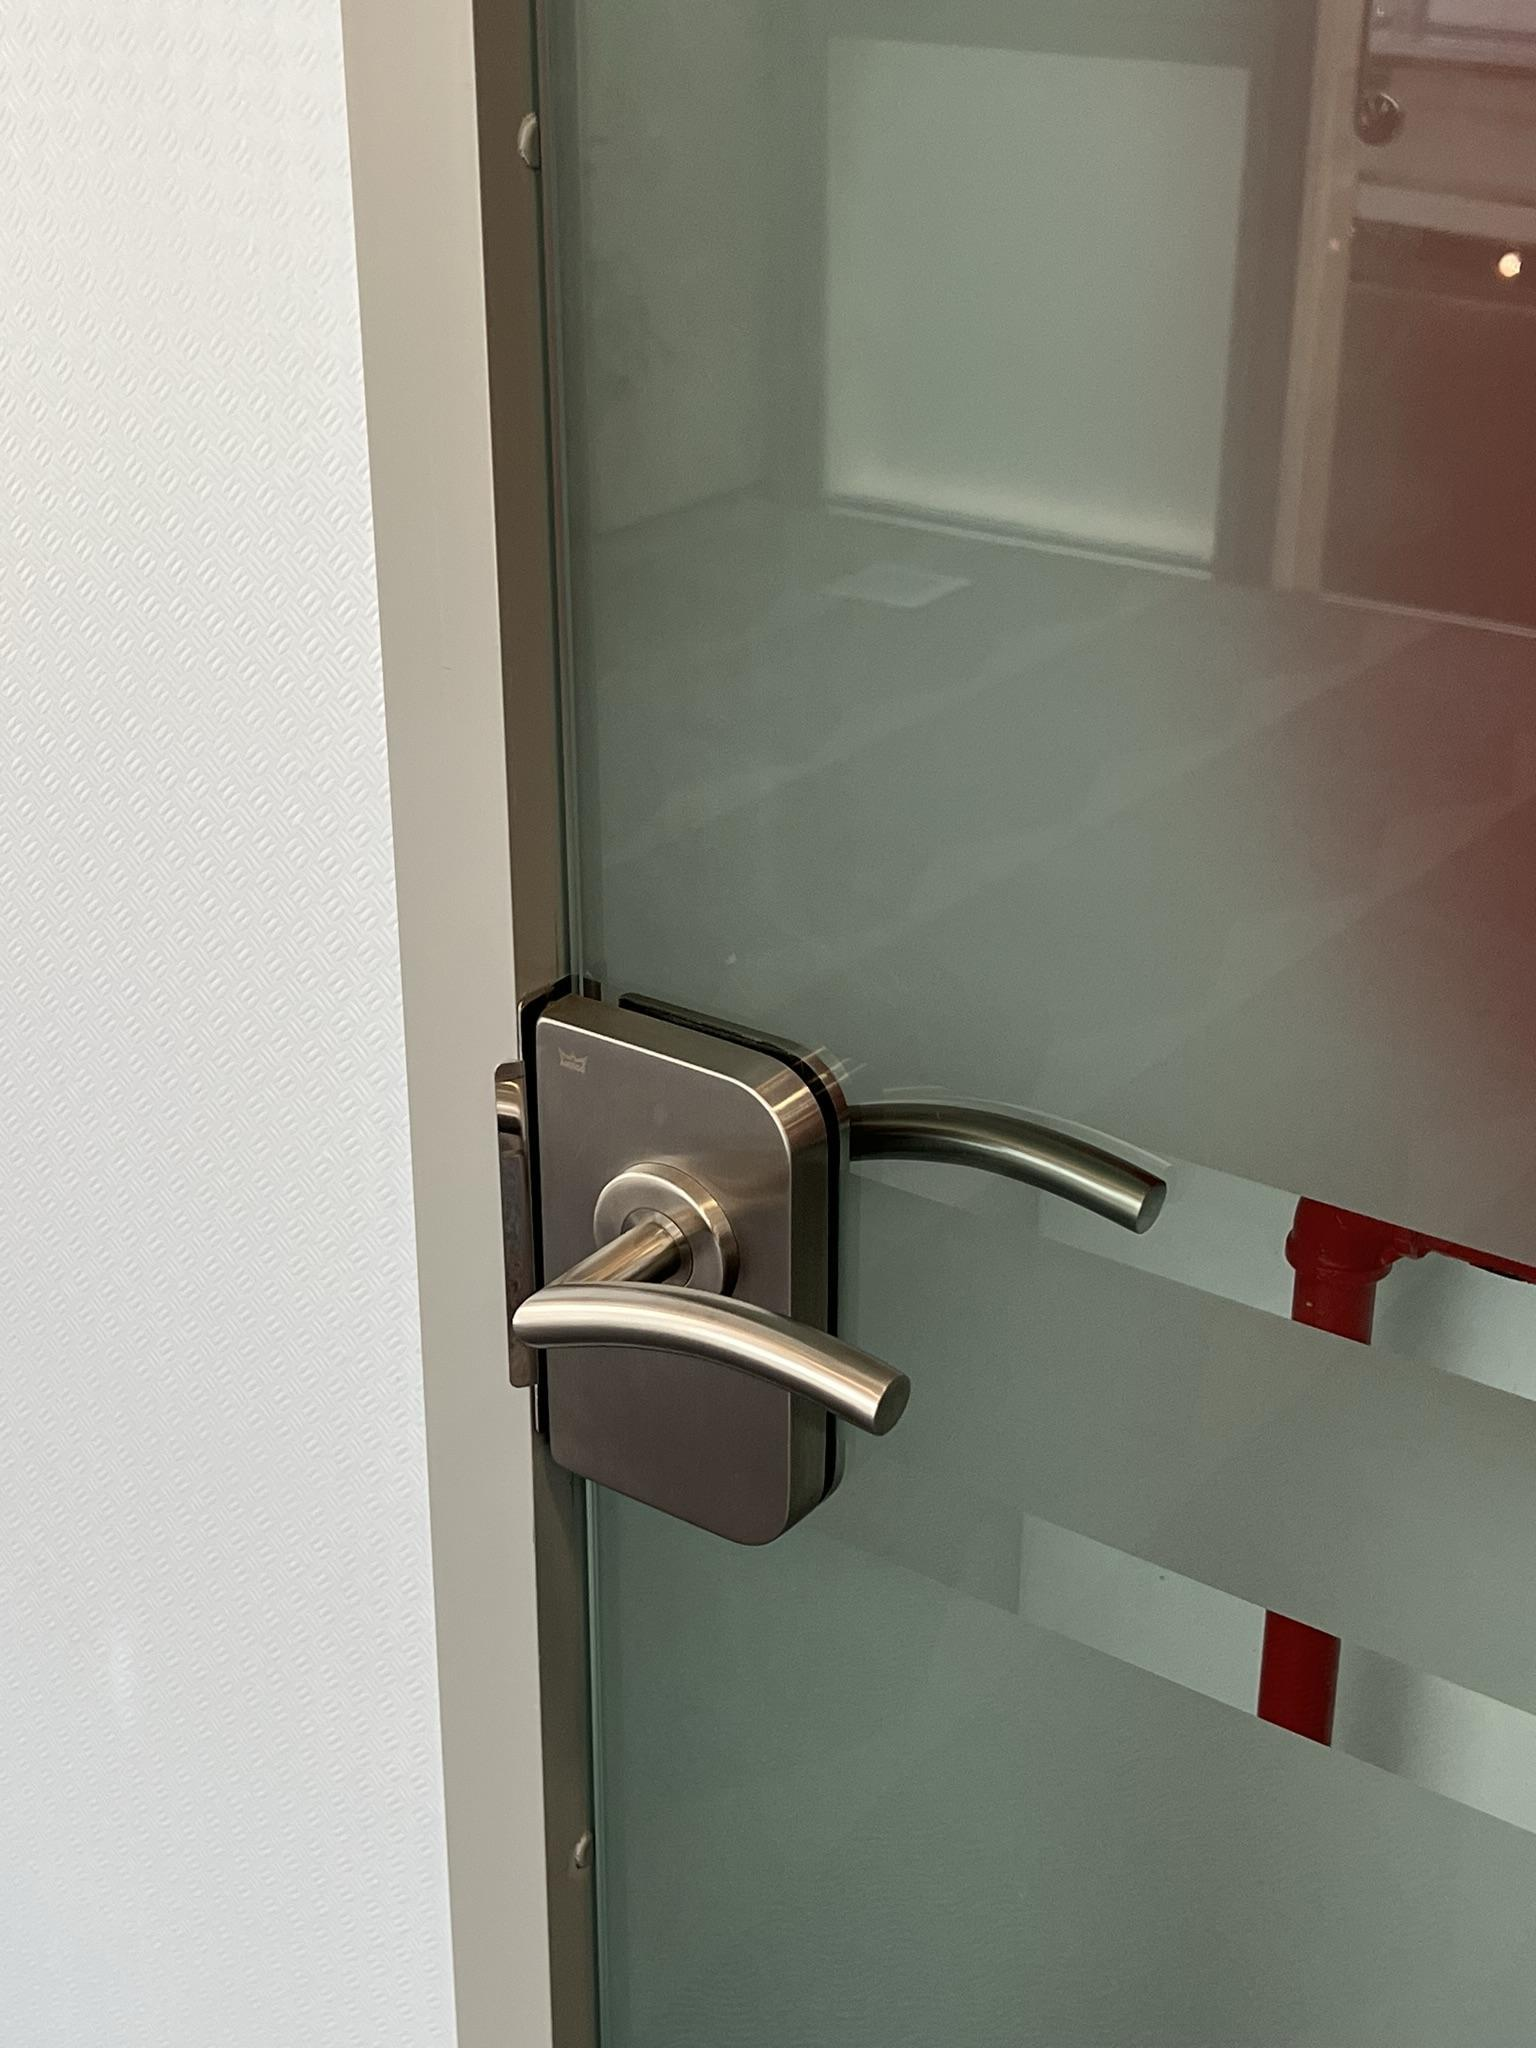door: (347, 6, 1517, 2027)
handle: (502, 969, 908, 1553)
